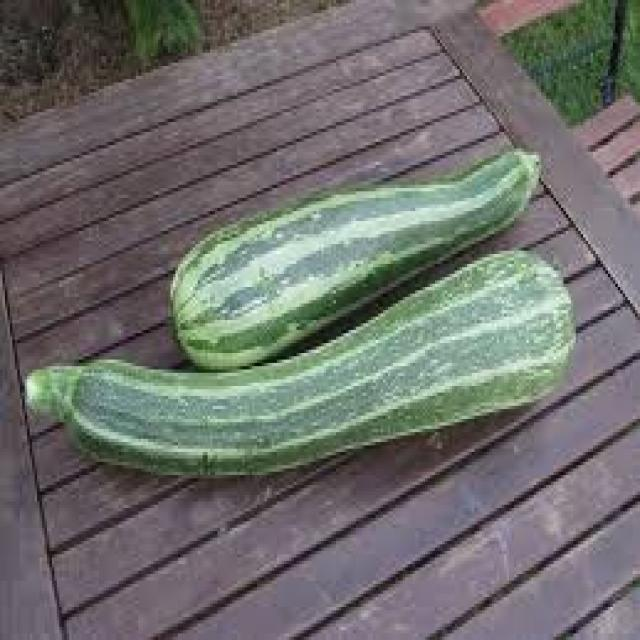organic waste: (22, 244, 571, 472), (166, 145, 538, 366)
